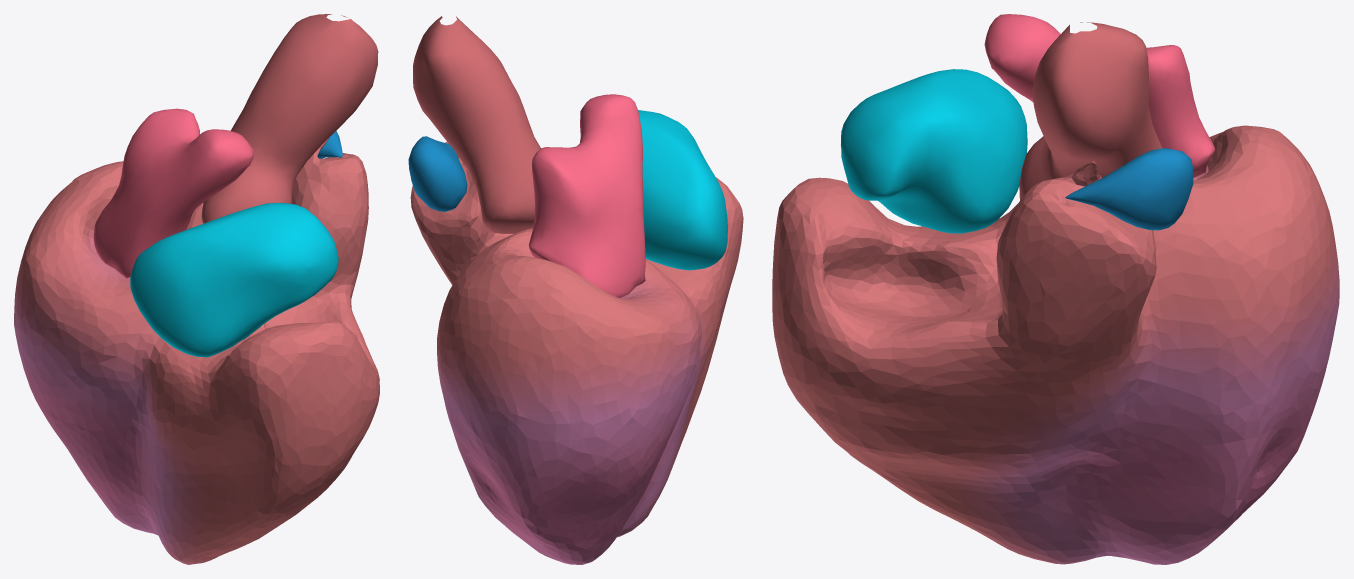
Rendered from frame_70.glb.
3 views of the same model, side by side, from view 1: azimuth 30°, elevation 25°; view 2: azimuth 150°, elevation 25°; view 3: azimuth 270°, elevation 25° (orthographic). The views are drawn at different scales.
Visible parts, largest first — view 1: Renderer Node; view 2: Renderer Node; view 3: Renderer Node.
Part boxes in pixels (x1,y1,x2,y2): Renderer Node: (14, 14, 379, 564); Renderer Node: (408, 16, 743, 564); Renderer Node: (772, 14, 1339, 564).
Size of the model in its own units: 102 by 158 by 128.
